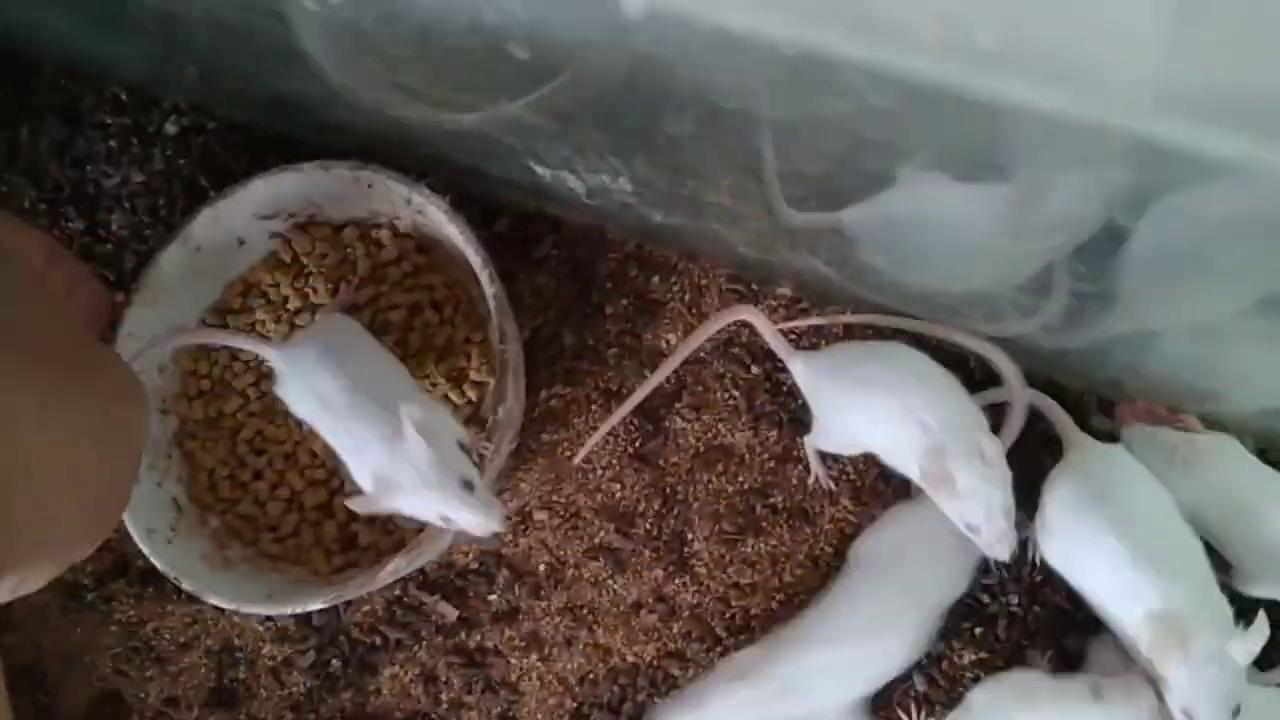rat: (1024, 439, 1273, 720), (267, 310, 511, 535), (782, 335, 1021, 561)
